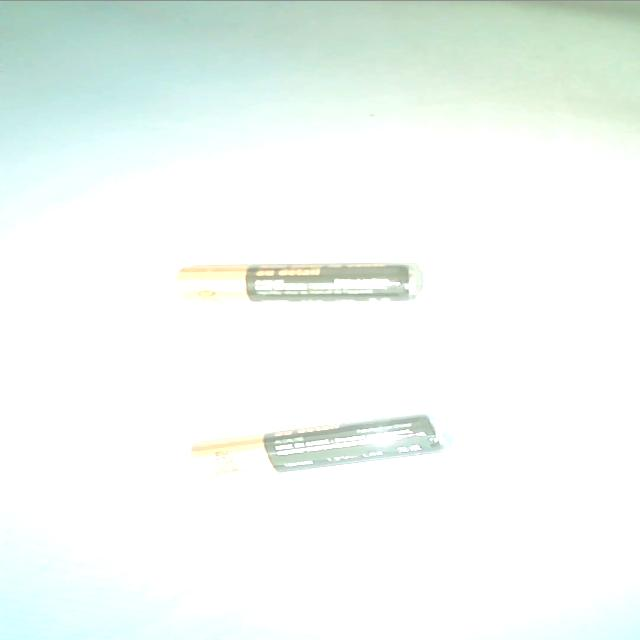AA: (187, 410, 453, 482), (174, 261, 424, 303)
